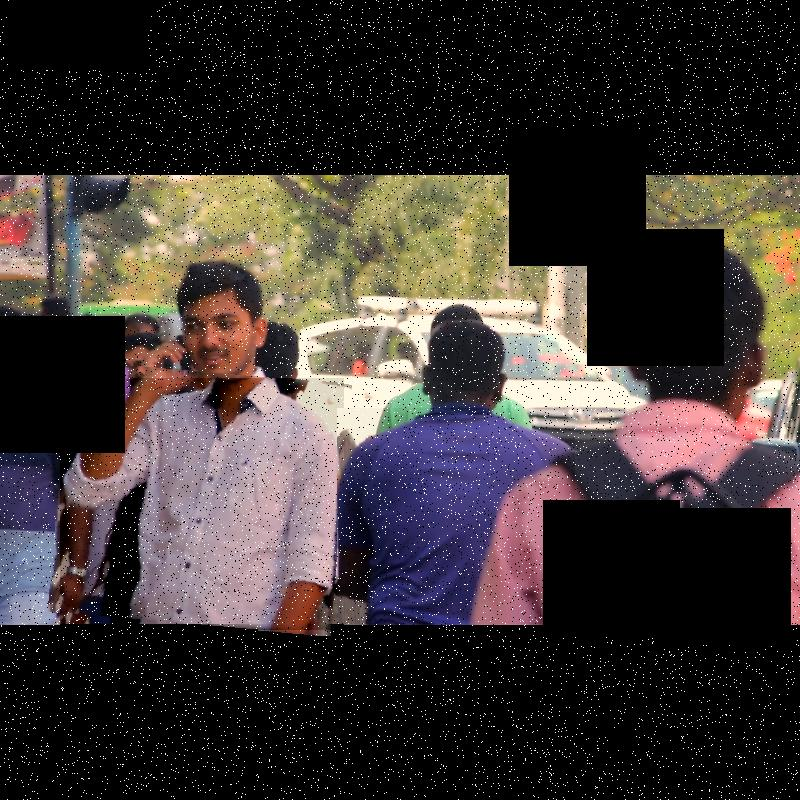Shirt: (60, 378, 344, 630)
Tshirt: (338, 408, 575, 624)
